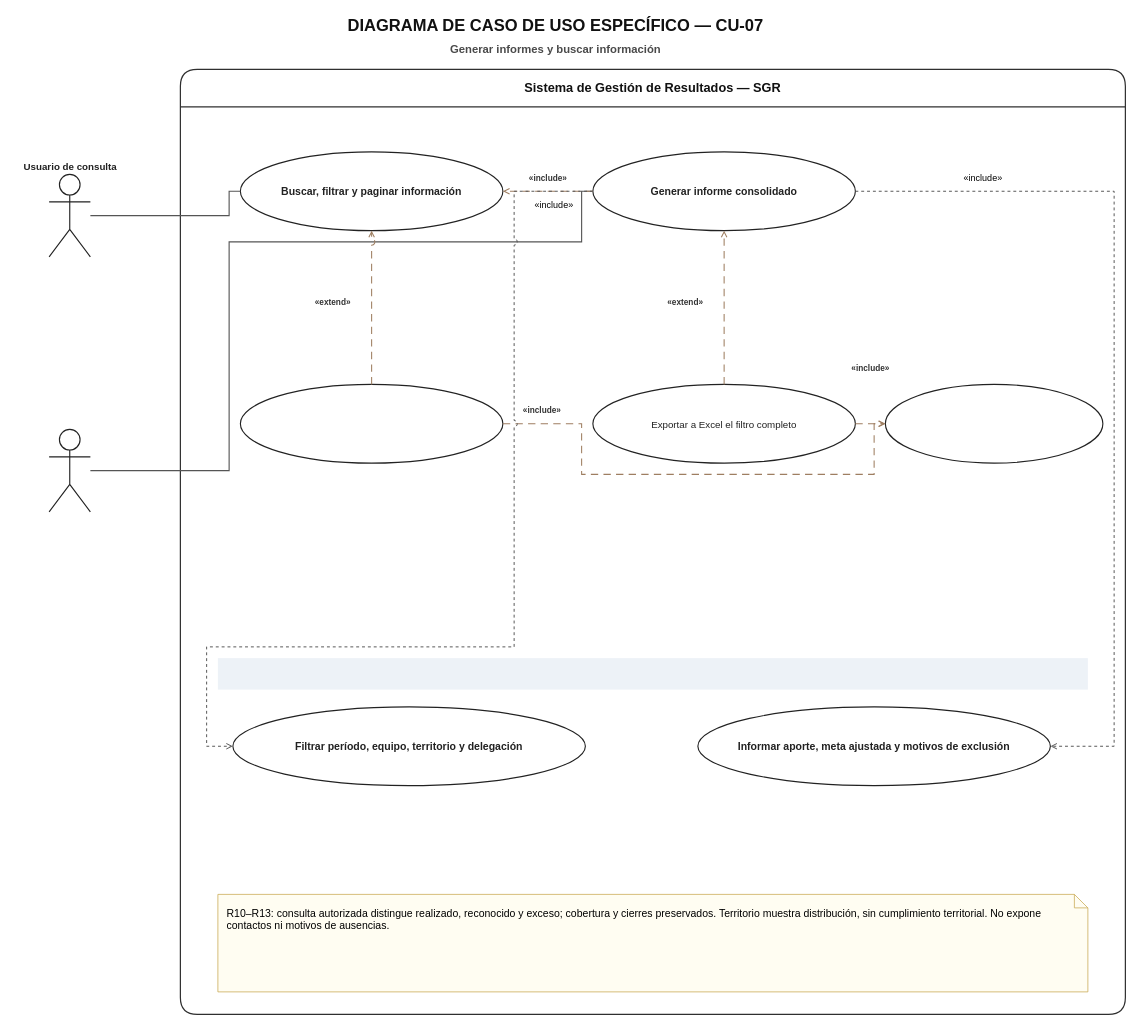
This 1139x1028 diagram has some shape labels left out. The centre of each missing label's shape, as x and y in pixels:
Ampliación del caso · implementación contrastada 23/10/2026: the point at 653,673
Conservar contexto y metadatos: the point at 993,423
Consultar detalle autorizado: the point at 371,423
Coordinador del sistema: the point at 69,470
